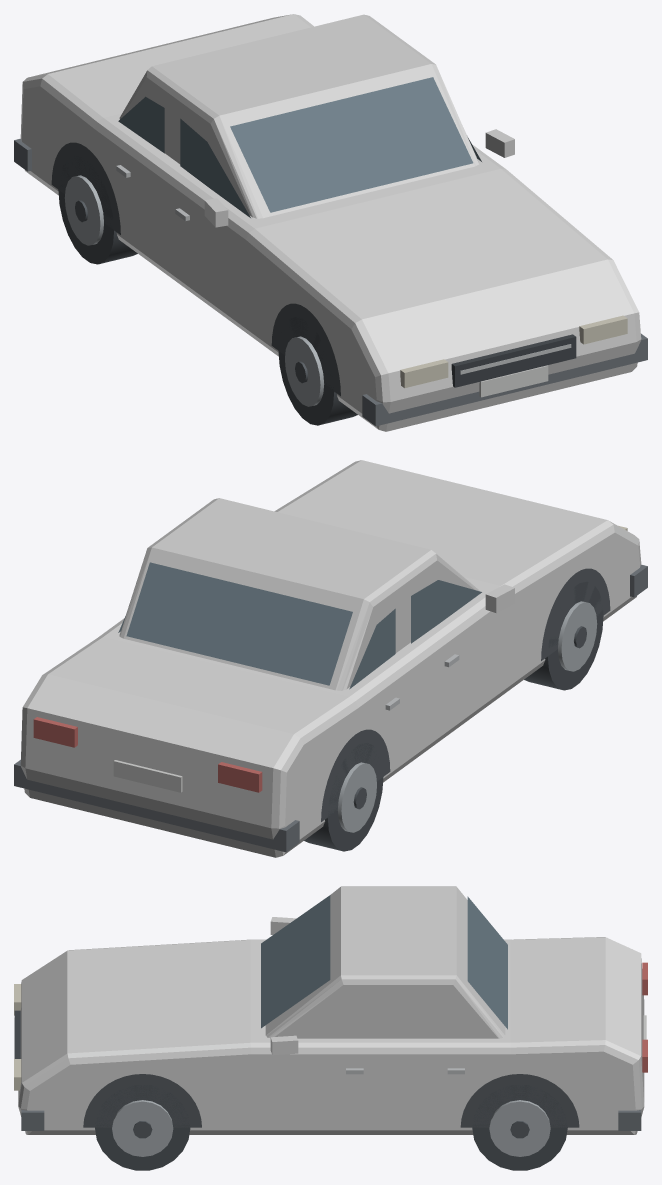
File: sedan.glb
3 views of the same model, one above another, from view 1: azimuth 30°, elevation 25°; view 2: azimuth 150°, elevation 25°; view 3: azimuth 270°, elevation 25° (orthographic). The views are drawn at different scales.
Parts seen in each view (by area): view 1: sedan; view 2: sedan; view 3: sedan.
Part boxes in pixels (<box>): sedan: <box>14,14,647,431</box>; sedan: <box>14,460,647,857</box>; sedan: <box>14,886,647,1170</box>.
Bounding box in the file's own units: 2.05 × 1.4 × 4.38.
